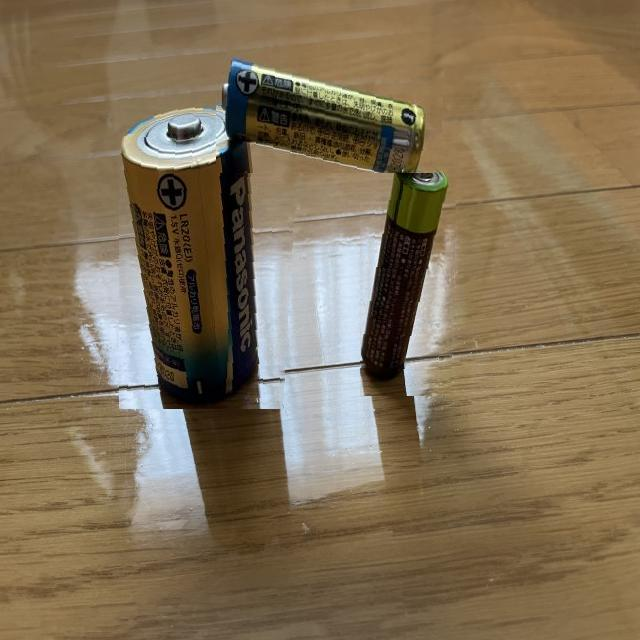battery: (120, 93, 302, 410), (216, 54, 444, 173), (360, 148, 458, 396)
